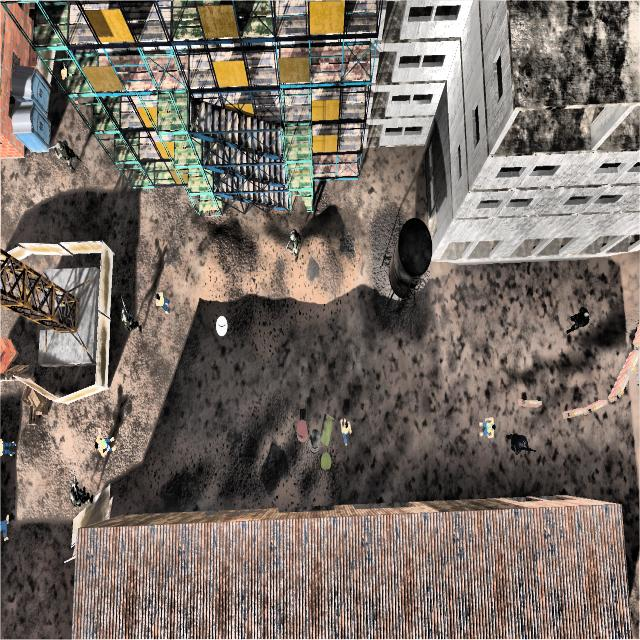bad: (560, 298, 594, 339), (48, 132, 81, 174), (505, 420, 534, 465), (114, 298, 144, 341), (64, 477, 95, 513), (281, 224, 305, 260)
good: (93, 422, 119, 459), (471, 411, 496, 448), (338, 405, 358, 450), (0, 429, 22, 466), (0, 507, 16, 542), (154, 288, 170, 319)
